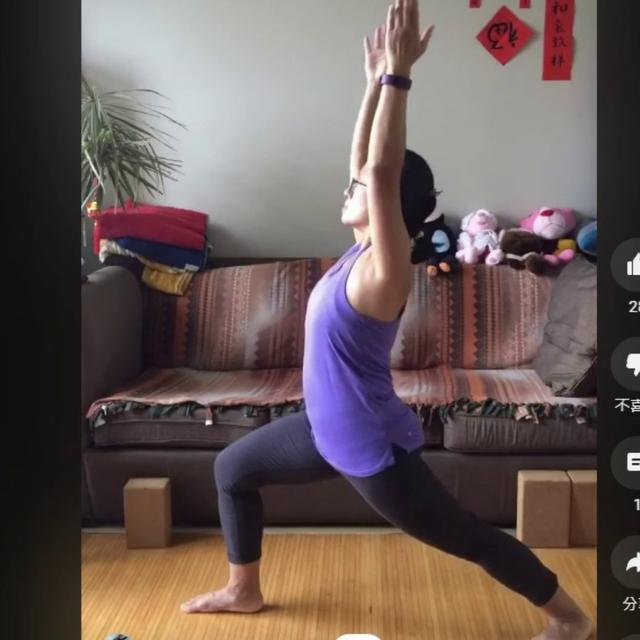Warrior_I: (157, 1, 598, 638)
